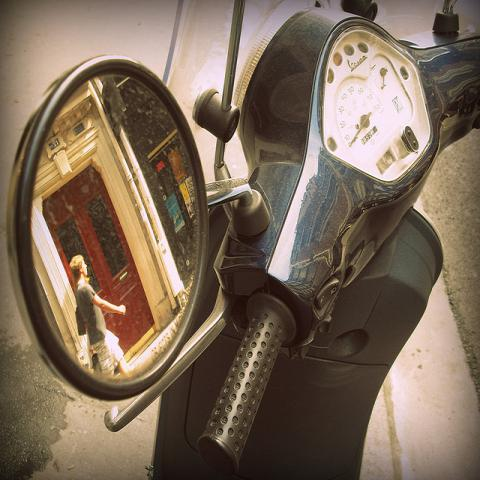motorcycle: (4, 0, 479, 479)
